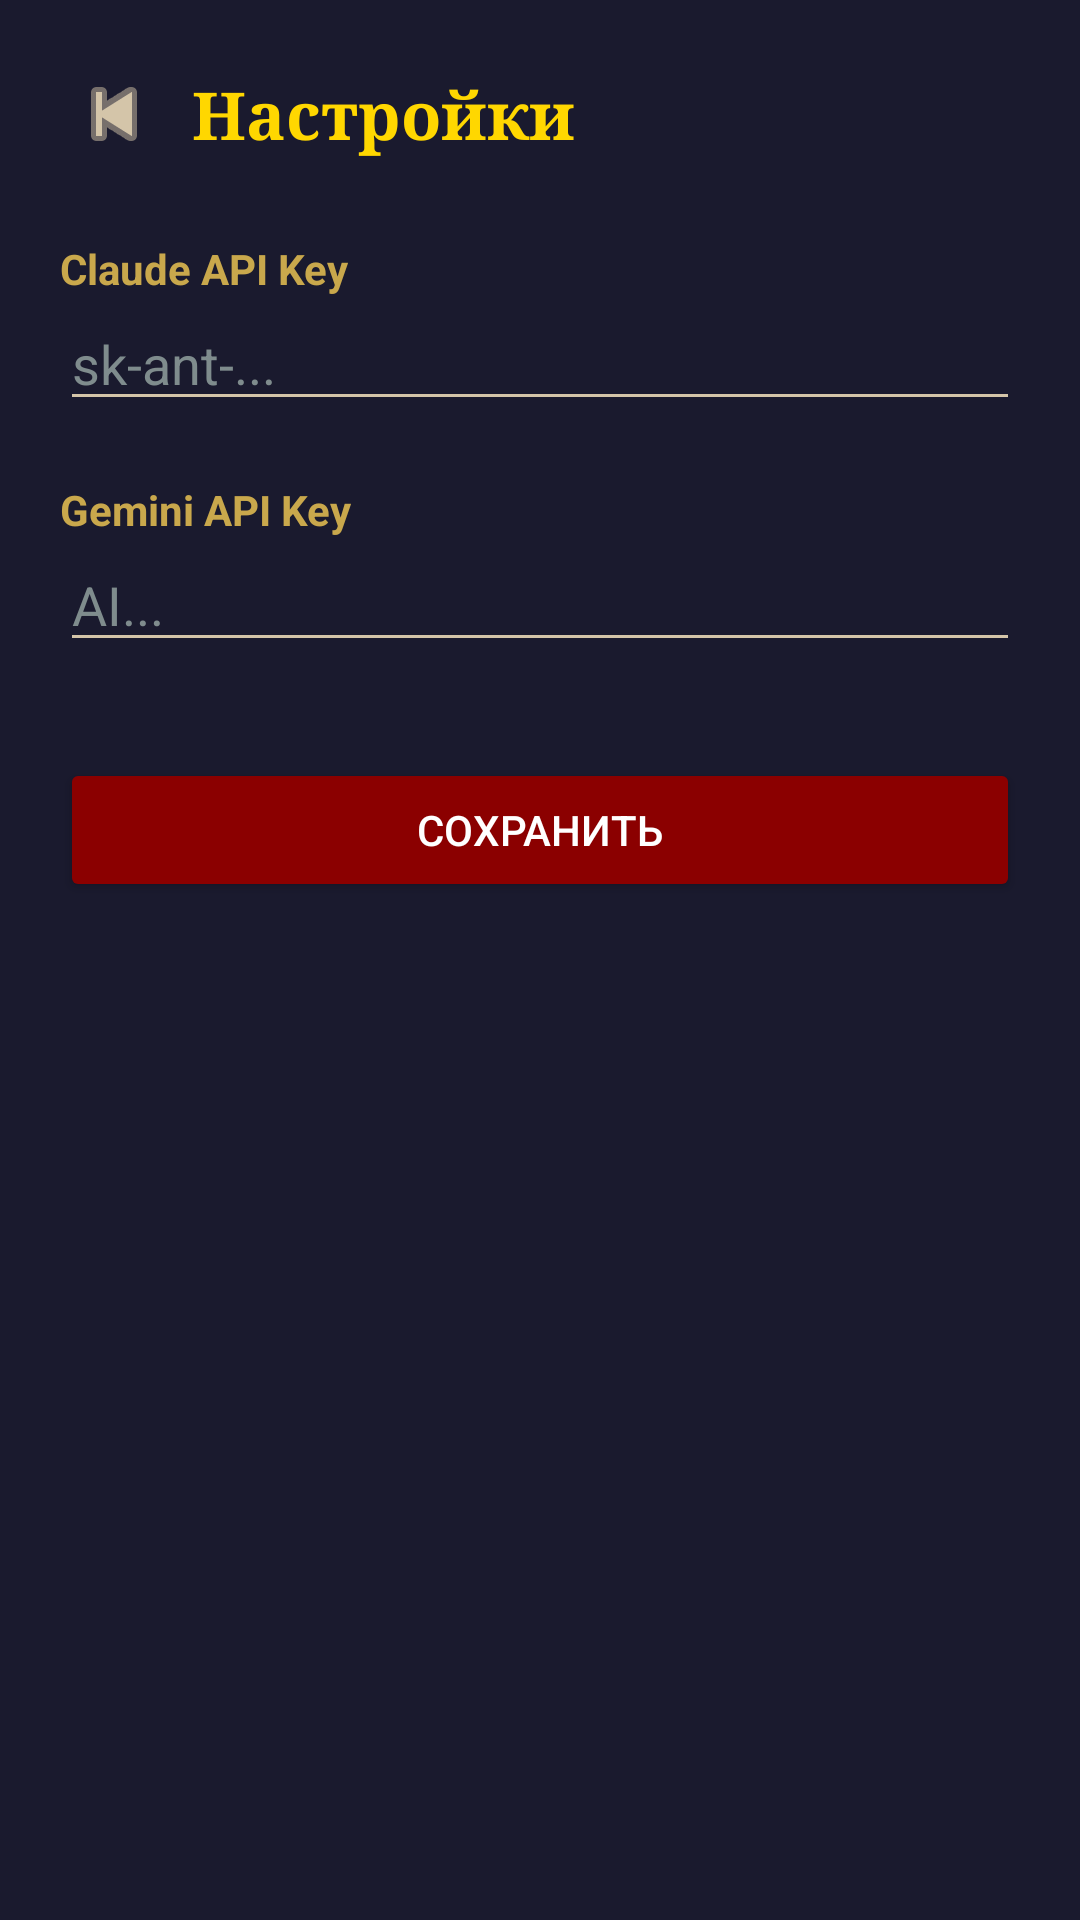

Named icons in this screenshot (1080x1920) and their bounding boxes, bbox(x1, y1, x2, y2):
previous: bbox(91, 87, 137, 141)
